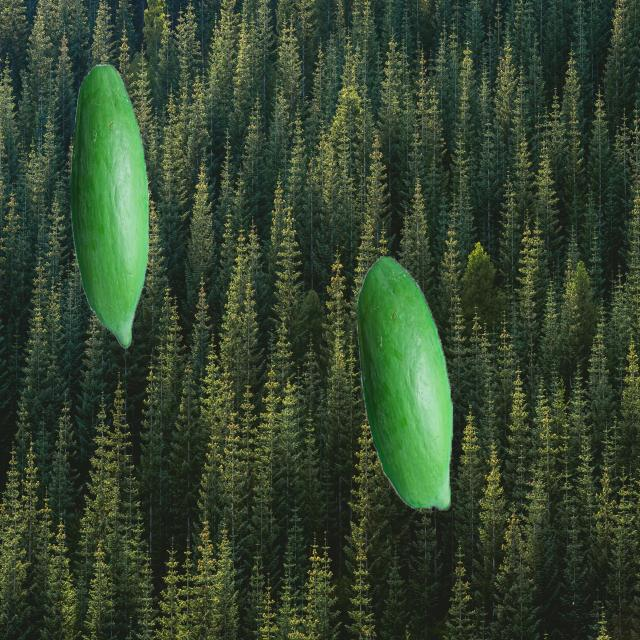Pepaya unrippen: (60, 69, 162, 354), (349, 260, 447, 509)
